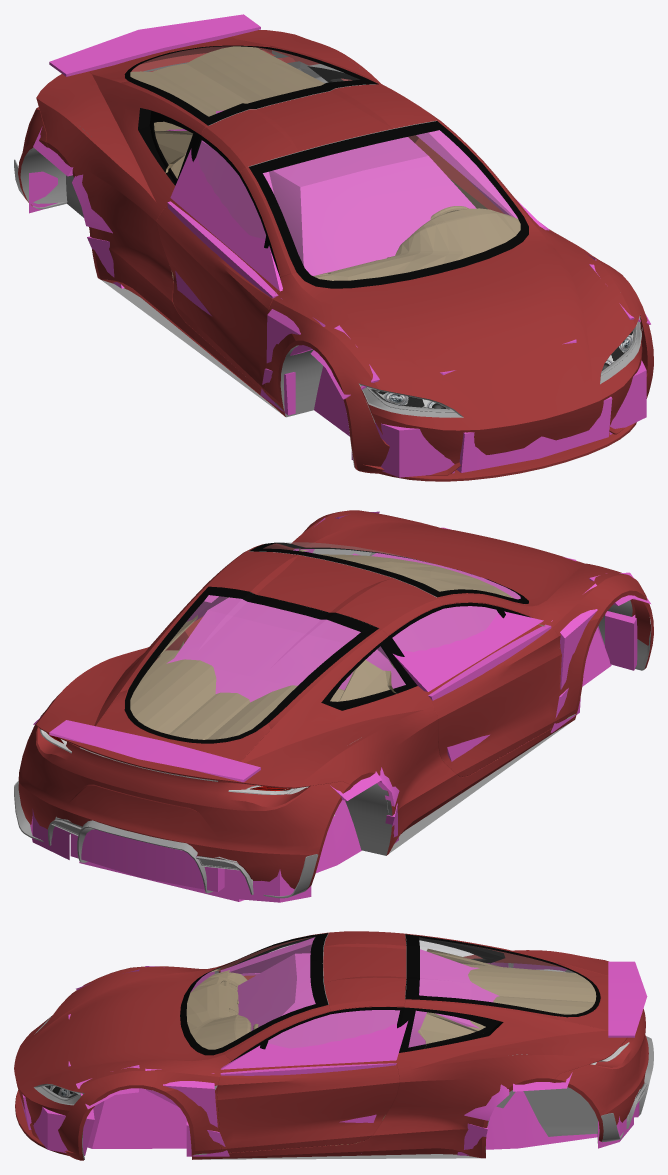
File: Tesla_new1.fbx
The picture shows the model from 3 angles, top to bottom: view 1: azimuth 30°, elevation 25°; view 2: azimuth 150°, elevation 25°; view 3: azimuth 270°, elevation 25°; orthographic projection. The views are drawn at different scales.
Visible parts, largest first — view 1: pasted__polySurface19, pasted__polySurface687, pasted__pasted__BodyCol1, salon, pasted__polySurface681, pasted__polySurface671, pasted__polySurface686, polySurface2, SpoilerCol, pasted__polySurface614, pasted__polySurface610, pasted__BumperRCol2 (+13 smaller); view 2: pasted__polySurface19, pasted__polySurface223, pasted__polySurface686, pasted__pasted__BodyCol1, salon, pasted__polySurface671, polySurface2, BumperRCol2, SpoilerCol, pasted__polySurface687, pasted__polySurface614, pasted__polySurface610 (+7 smaller); view 3: pasted__polySurface19, pasted__polySurface668, salon, pasted__pasted__BodyCol1, pasted__polySurface687, pasted__polySurface686, polySurface1, pasted__pasted__BodyCol2, pasted__polySurface223, pasted__polySurface616, pasted__polySurface629, pasted__polySurface688 (+10 smaller).
Boxes of the visible parts, x1=… form: pasted__polySurface19: x1=20, y1=30, x2=647, y2=467; pasted__polySurface687: x1=263, y1=130, x2=519, y2=280; pasted__pasted__BodyCol1: x1=166, y1=110, x2=476, y2=275; salon: x1=130, y1=46, x2=520, y2=293; pasted__polySurface681: x1=339, y1=307, x2=653, y2=481; pasted__polySurface671: x1=156, y1=200, x2=279, y2=392; pasted__polySurface686: x1=131, y1=47, x2=358, y2=115; polySurface2: x1=170, y1=140, x2=282, y2=291; SpoilerCol: x1=49, y1=14, x2=260, y2=76; pasted__polySurface614: x1=265, y1=299, x2=378, y2=411; pasted__polySurface610: x1=36, y1=98, x2=109, y2=279; pasted__BumperRCol2: x1=456, y1=396, x2=612, y2=472; pasted__polySurface19: x1=36, y1=510, x2=651, y2=893; pasted__polySurface223: x1=14, y1=712, x2=351, y2=898; pasted__polySurface686: x1=131, y1=595, x2=359, y2=739; pasted__pasted__BodyCol1: x1=79, y1=597, x2=405, y2=901; salon: x1=130, y1=549, x2=544, y2=739; pasted__polySurface671: x1=426, y1=607, x2=560, y2=776; polySurface2: x1=377, y1=606, x2=543, y2=691; BumperRCol2: x1=70, y1=829, x2=224, y2=891; SpoilerCol: x1=49, y1=720, x2=260, y2=782; pasted__polySurface687: x1=265, y1=542, x2=519, y2=598; pasted__polySurface614: x1=553, y1=575, x2=642, y2=722; pasted__polySurface610: x1=296, y1=730, x2=396, y2=855; pasted__polySurface19: x1=14, y1=931, x2=653, y2=1159; pasted__polySurface668: x1=217, y1=1039, x2=399, y2=1152; salon: x1=186, y1=948, x2=596, y2=1145; pasted__pasted__BodyCol1: x1=237, y1=949, x2=597, y2=1149; pasted__polySurface687: x1=187, y1=937, x2=314, y2=1048; pasted__polySurface686: x1=419, y1=938, x2=595, y2=1013; polySurface1: x1=220, y1=1010, x2=407, y2=1069; pasted__pasted__BodyCol2: x1=68, y1=1014, x2=187, y2=1148; pasted__polySurface223: x1=551, y1=1025, x2=648, y2=1143; pasted__polySurface616: x1=73, y1=1071, x2=220, y2=1155; pasted__polySurface629: x1=470, y1=1055, x2=604, y2=1158; pasted__polySurface688: x1=268, y1=1010, x2=399, y2=1047.
Size of the model in its own units: 200 by 114 by 452.
